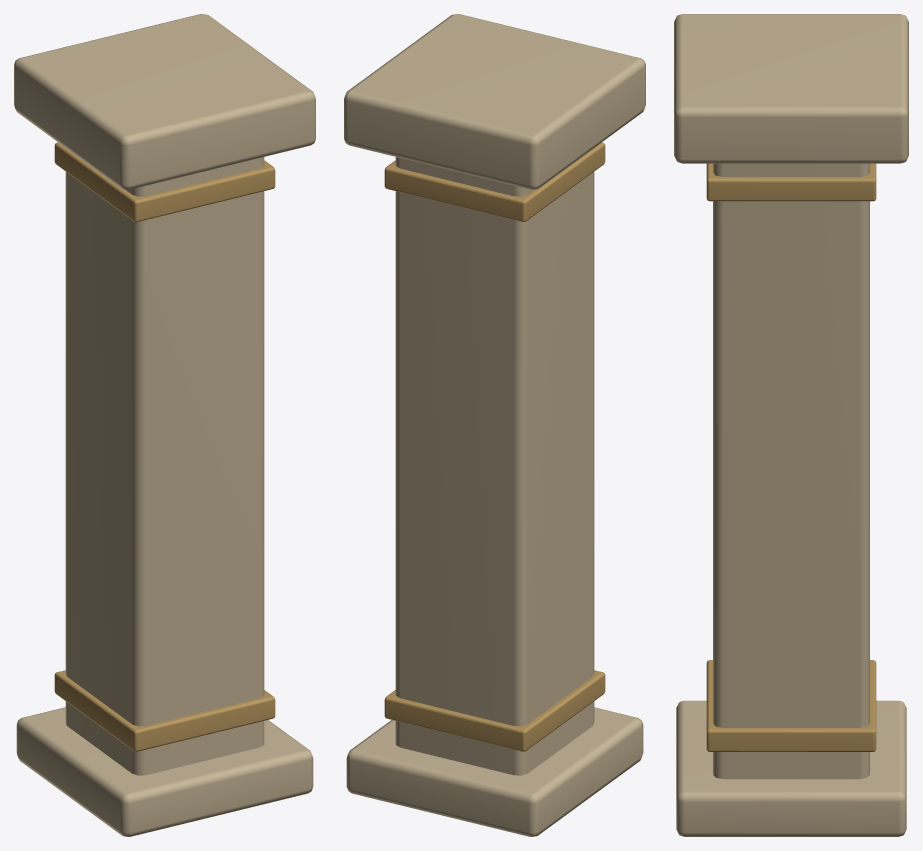
File: column.glb
3 renders of one model, left to right at view 1: azimuth 30°, elevation 25°; view 2: azimuth 150°, elevation 25°; view 3: azimuth 270°, elevation 25°, orthographic. The views are drawn at different scales.
Visible parts, largest first — view 1: Ancient column, Column capital, Column foot, Brass course, Brass course.001; view 2: Ancient column, Column capital, Column foot, Brass course, Brass course.001; view 3: Ancient column, Column capital, Column foot, Brass course, Brass course.001.
Part boxes in pixels (box(x1,y1,x2,y2)): Ancient column: box(65, 157, 264, 775); Column capital: box(14, 14, 315, 189); Column foot: box(16, 707, 313, 836); Brass course: box(54, 670, 275, 751); Brass course.001: box(54, 142, 275, 221); Ancient column: box(395, 157, 594, 775); Column capital: box(344, 14, 645, 189); Column foot: box(346, 707, 643, 836); Brass course: box(384, 670, 605, 751); Brass course.001: box(384, 142, 605, 221); Ancient column: box(713, 163, 869, 779); Column capital: box(674, 14, 908, 163); Column foot: box(676, 700, 906, 836); Brass course: box(706, 660, 876, 751); Brass course.001: box(706, 163, 876, 201).
Bounding box in the file's own units: 1.12 × 3.85 × 1.12.
